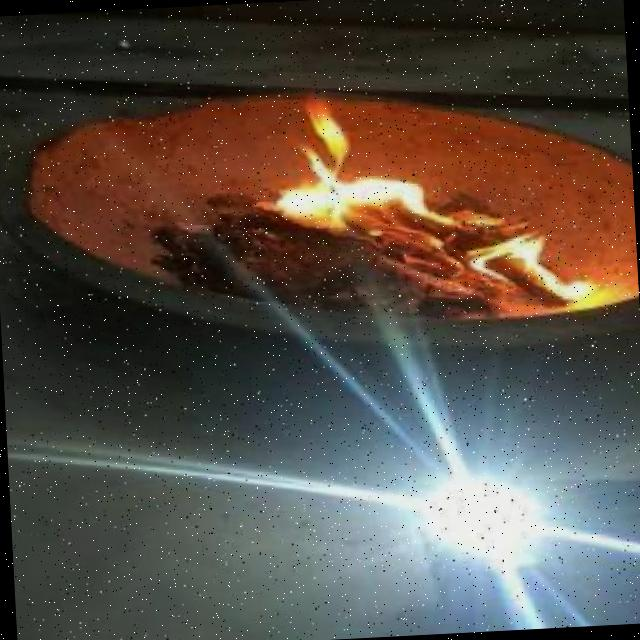fire: (260, 84, 602, 335)
